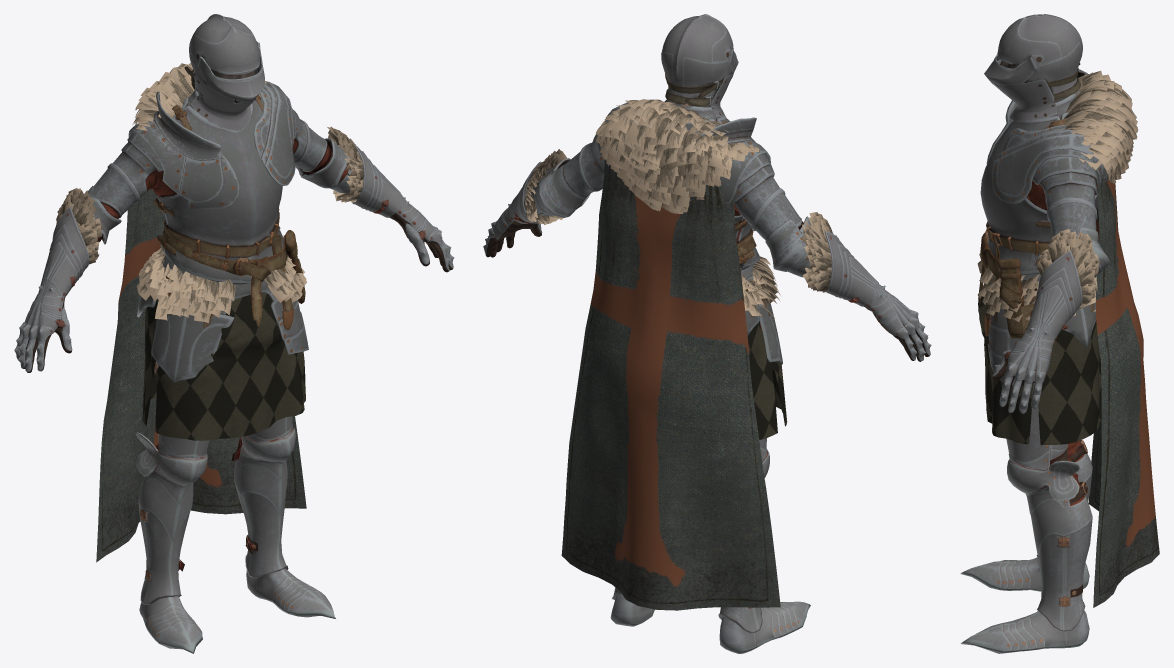
Rendered from Knight.fbx.
3 views of the same model, side by side, from view 1: azimuth 30°, elevation 25°; view 2: azimuth 150°, elevation 25°; view 3: azimuth 270°, elevation 25° (orthographic).
Parts seen in each view (by area): view 1: Torso, Legs, Cape, Skirt, Fur, Gloves, Helmet; view 2: Cape, Fur, Torso, Gloves, Helmet, Legs, Skirt; view 3: Torso, Cape, Legs, Fur, Skirt, Helmet, Gloves.
Boxes of the visible parts, x1,y1,x2,y2 form: Torso: (88,81,357,382); Legs: (136,362,335,653); Cape: (96,189,306,562); Skirt: (142,292,305,440); Fur: (56,63,363,323); Gloves: (14,138,454,372); Helmet: (184,14,265,131); Cape: (561,159,780,610); Fur: (525,99,836,318); Torso: (524,100,831,364); Gloves: (483,161,931,361); Helmet: (661,14,738,116); Legs: (610,323,810,653); Skirt: (747,321,787,439); Torso: (978,69,1109,385); Cape: (1088,174,1159,607); Legs: (960,382,1092,653); Fur: (977,70,1138,321); Skirt: (978,296,1101,445); Helmet: (984,14,1084,121); Gloves: (992,250,1082,413).
Size of the model in its own units: 1.4 by 1.85 by 0.5559.
Materials: 9 (9 with a texture image).
